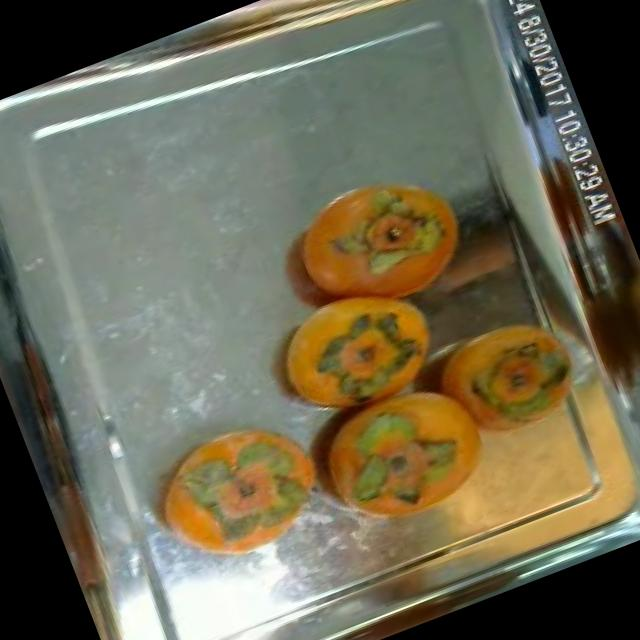Fruit: (117, 388, 356, 594), (260, 141, 494, 341)
